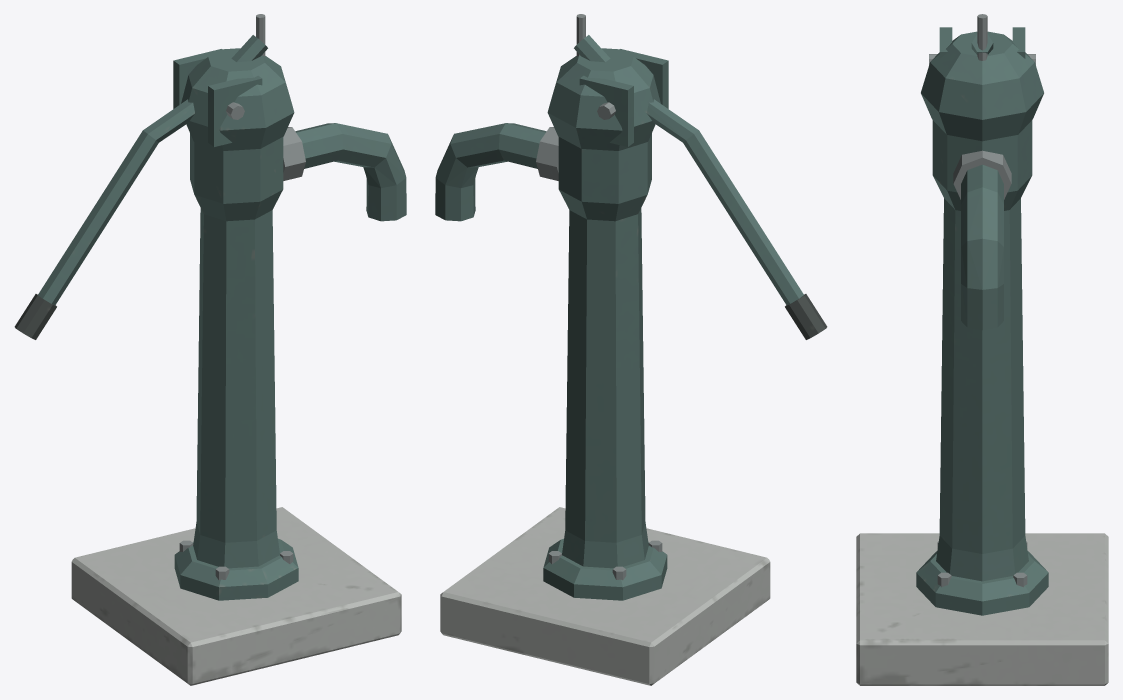
Rendered from farmland_well_pump_hand.glb.
3 renders of one model, left to right at view 1: azimuth 30°, elevation 25°; view 2: azimuth 150°, elevation 25°; view 3: azimuth 270°, elevation 25°, orthographic. The views are drawn at different scales.
Visible parts, largest first — view 1: WellPumpHand; view 2: WellPumpHand; view 3: WellPumpHand.
Boxes of the visible parts, x1,y1,x2,y2 form: WellPumpHand: (14, 14, 406, 685); WellPumpHand: (435, 14, 827, 685); WellPumpHand: (856, 14, 1108, 685).
Size of what is drawn, in the model's own units: 0.75 by 1.1 by 0.4.
1 material, 1 textured.
